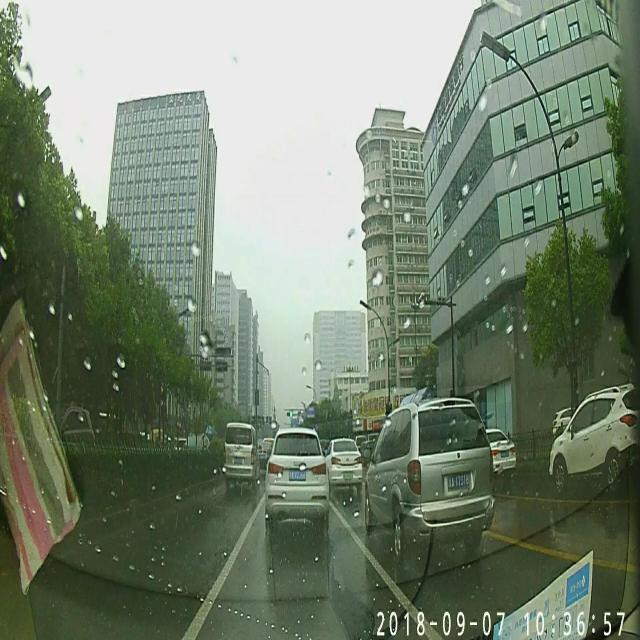car: (364, 396, 494, 556), (549, 382, 638, 497), (264, 426, 330, 531), (222, 421, 262, 486), (326, 436, 363, 494), (486, 426, 516, 478)
